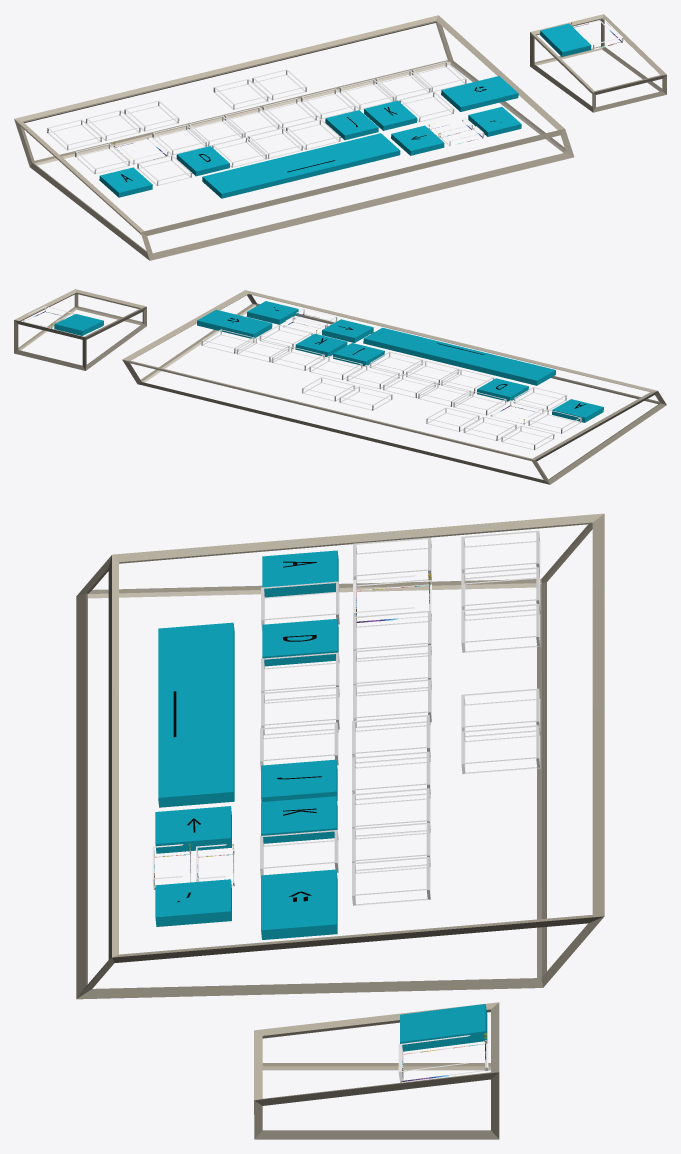
The model's file is kbm-lp.glb.
3 renders of one model, top to bottom at view 1: azimuth 30°, elevation 25°; view 2: azimuth 150°, elevation 25°; view 3: azimuth 270°, elevation 25°, orthographic. The views are drawn at different scales.
Parts seen in each view (by area): view 1: keyboard.001, Space key.001, mouse, Enter key.001, left click, Left key.001, Akey, Right key.001, J key.001, K key.001, D key, key.003 (+7 smaller); view 2: keyboard.001, Space key.001, mouse, Enter key.001, Left key.001, Right key.001, Akey, J key.001, D key, K key.001, left click, key.003 (+15 smaller); view 3: keyboard.001, Space key.001, mouse, Enter key.001, left click, Right key.001, Left key.001, K key.001, D key, Akey, J key.001, key.004 (+5 smaller).
Part boxes in pixels (bbox=[...]): keyboard.001: bbox=[14, 15, 574, 260]; Space key.001: bbox=[202, 133, 400, 198]; mouse: bbox=[530, 14, 666, 112]; Enter key.001: bbox=[441, 76, 518, 111]; left click: bbox=[540, 23, 591, 56]; Left key.001: bbox=[391, 125, 444, 155]; Akey: bbox=[99, 167, 152, 197]; Right key.001: bbox=[468, 107, 521, 136]; J key.001: bbox=[325, 110, 378, 140]; K key.001: bbox=[364, 100, 417, 130]; D key: bbox=[176, 146, 229, 176]; key.003: bbox=[213, 79, 268, 109]; keyboard.001: bbox=[122, 290, 666, 484]; Space key.001: bbox=[363, 327, 555, 385]; mouse: bbox=[14, 289, 146, 370]; Enter key.001: bbox=[197, 309, 272, 338]; Left key.001: bbox=[322, 319, 373, 342]; Right key.001: bbox=[246, 301, 298, 324]; Akey: bbox=[552, 399, 603, 422]; J key.001: bbox=[333, 343, 384, 366]; D key: bbox=[477, 378, 528, 401]; K key.001: bbox=[295, 333, 347, 357]; left click: bbox=[54, 314, 103, 335]; key.003: bbox=[339, 386, 392, 410]; keyboard.001: bbox=[76, 513, 604, 999]; Space key.001: bbox=[158, 622, 234, 807]; mouse: bbox=[254, 1002, 499, 1139]; Enter key.001: bbox=[261, 869, 337, 939]; left click: bbox=[400, 1004, 487, 1051]; Right key.001: bbox=[155, 879, 231, 926]; Left key.001: bbox=[155, 806, 231, 853]; K key.001: bbox=[261, 796, 337, 843]; D key: bbox=[262, 618, 338, 666]; Akey: bbox=[262, 550, 338, 597]; J key.001: bbox=[261, 759, 337, 801]; key.004: bbox=[461, 725, 540, 774].
Size of the model in its own units: 2.33 by 0.1873 by 0.9757.
10 materials, 1 textured.
